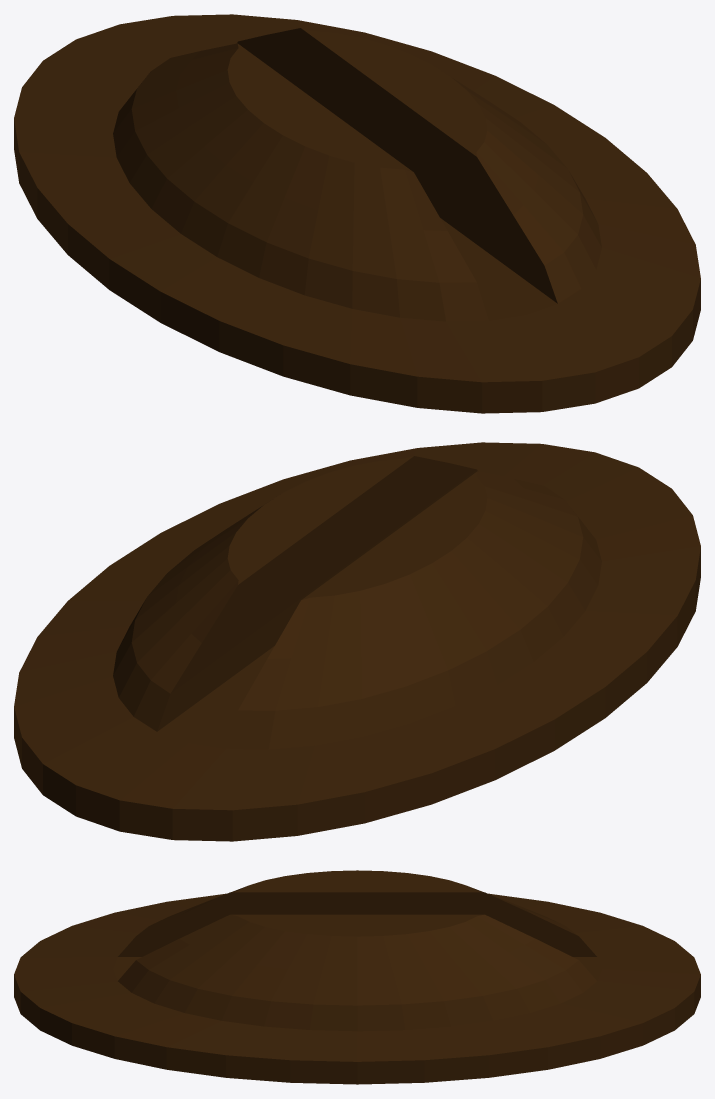
Rendered from AguentadorDePlantas.fbx.
3 views of the same model, one above another, from view 1: azimuth 30°, elevation 25°; view 2: azimuth 150°, elevation 25°; view 3: azimuth 270°, elevation 25° (orthographic). The views are drawn at different scales.
Parts seen in each view (by area): view 1: Cylinder; view 2: Cylinder; view 3: Cylinder.
Part boxes in pixels (bbox=[...]): Cylinder: bbox=[14, 14, 700, 413]; Cylinder: bbox=[14, 442, 700, 841]; Cylinder: bbox=[14, 870, 700, 1084].
Size of the model in its own units: 144 by 35.86 by 239.
